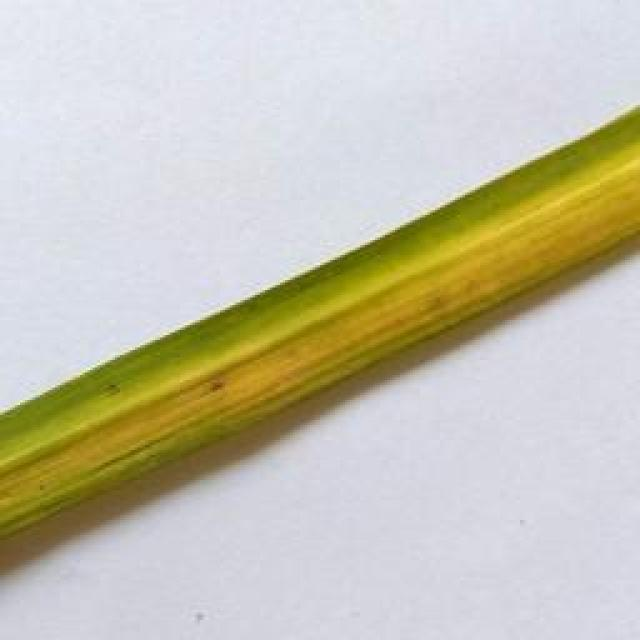Bacterial_Blight: (0, 133, 640, 542)
Brown_Spot: (198, 371, 250, 395)
